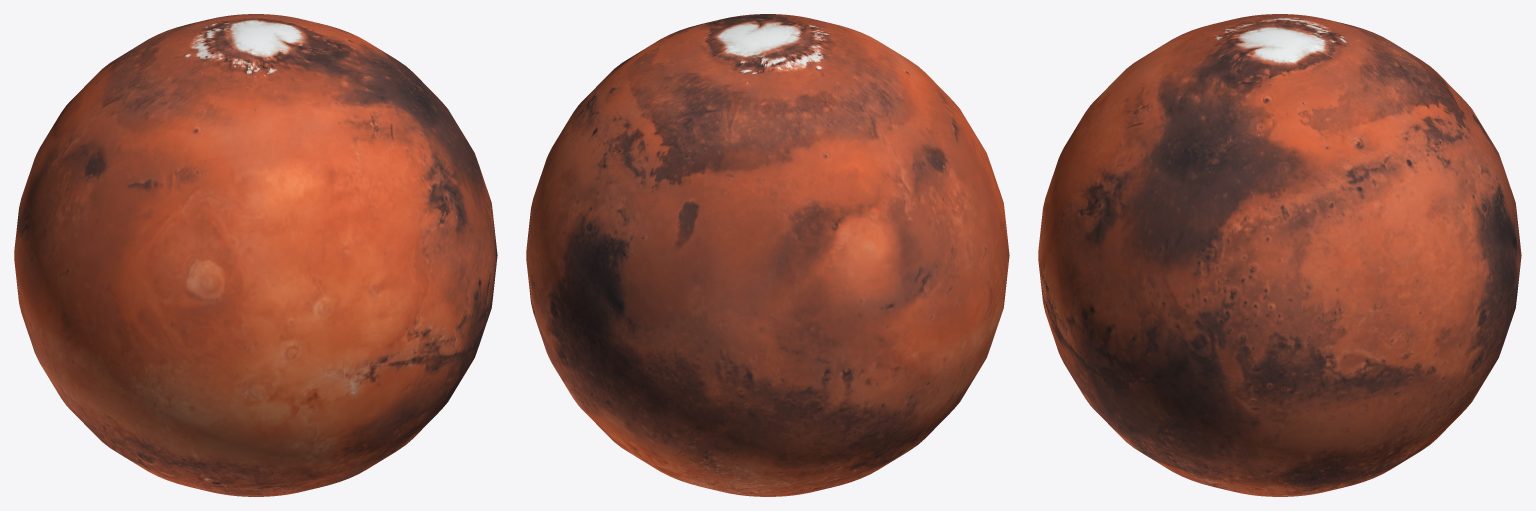
The model's file is mars.glb.
The picture shows the model from 3 angles, left to right: view 1: azimuth 30°, elevation 25°; view 2: azimuth 150°, elevation 25°; view 3: azimuth 270°, elevation 25°; orthographic projection.
Parts seen in each view (by area): view 1: Сфера; view 2: Сфера; view 3: Сфера.
Boxes of the visible parts, box(x1,y1,x2,y2) form: Сфера: box(14, 14, 497, 496); Сфера: box(526, 14, 1009, 496); Сфера: box(1038, 14, 1521, 496).
Bounding box in the file's own units: 2 × 2 × 2.
1 material, 1 textured.
